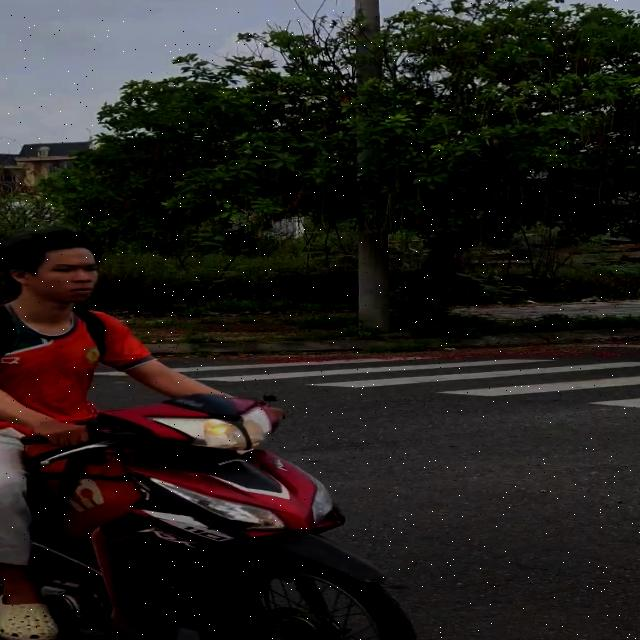no_helmet: (0, 225, 101, 331)
